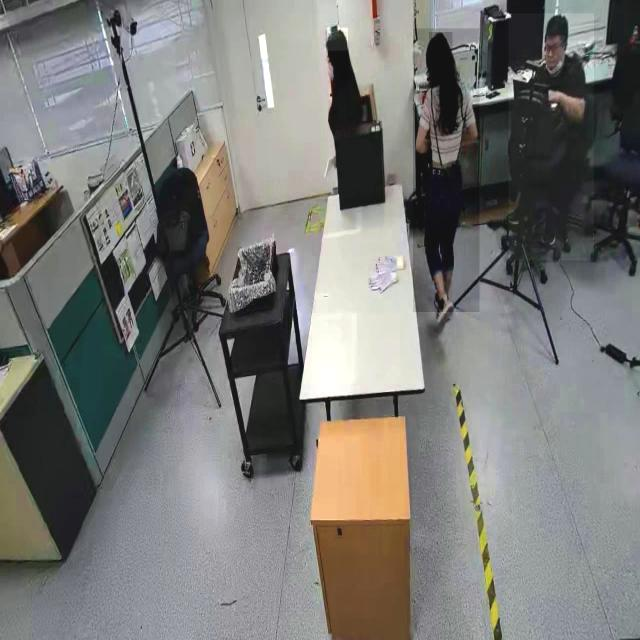face_nomask: (545, 36, 565, 66)
hand_noglove: (548, 86, 560, 107)
head_nohelmet: (428, 32, 452, 63), (326, 28, 348, 52), (547, 13, 569, 34)
person: (508, 13, 594, 262), (412, 28, 480, 313)
shoes: (432, 285, 457, 331)
